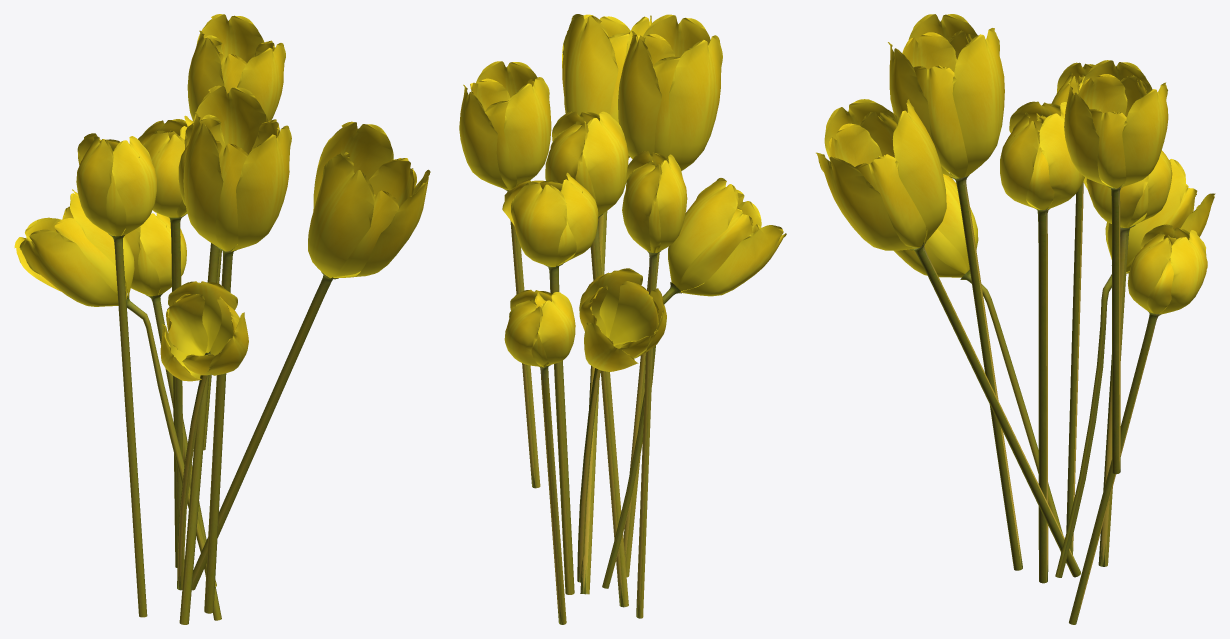
Rendered from RamoTulipanesAmarillos.fbx.
The picture shows the model from 3 angles, left to right: view 1: azimuth 30°, elevation 25°; view 2: azimuth 150°, elevation 25°; view 3: azimuth 270°, elevation 25°; orthographic projection. The views are drawn at different scales.
Parts seen in each view (by area): view 1: TulipanesAmarillos; view 2: TulipanesAmarillos; view 3: TulipanesAmarillos.
Part boxes in pixels (left/top/right/bottom): TulipanesAmarillos: left=14, top=14, right=430, bottom=624; TulipanesAmarillos: left=459, top=14, right=786, bottom=624; TulipanesAmarillos: left=816, top=14, right=1215, bottom=624.
Size of the model in its own units: 0.1391 by 0.1921 by 0.3051.
2 materials, 2 textured.
